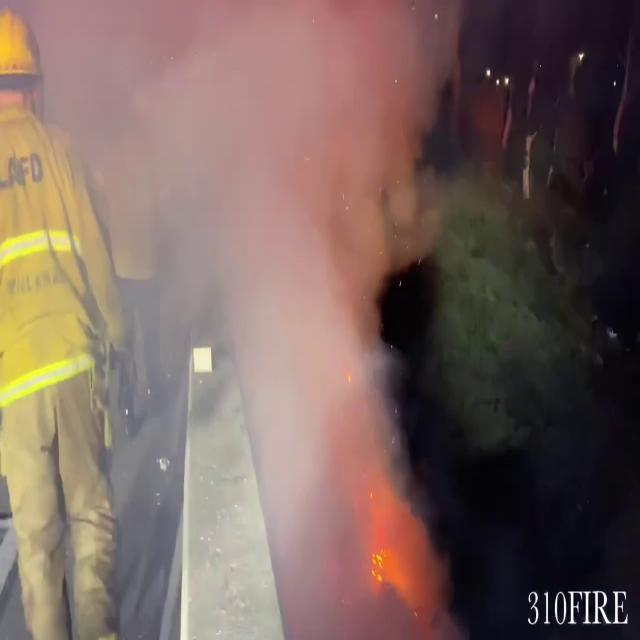Smoke: (68, 1, 448, 571)
